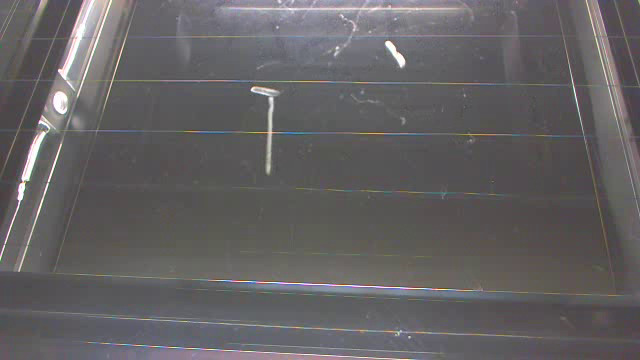alpha: (382, 37, 412, 69), (246, 83, 282, 98)
